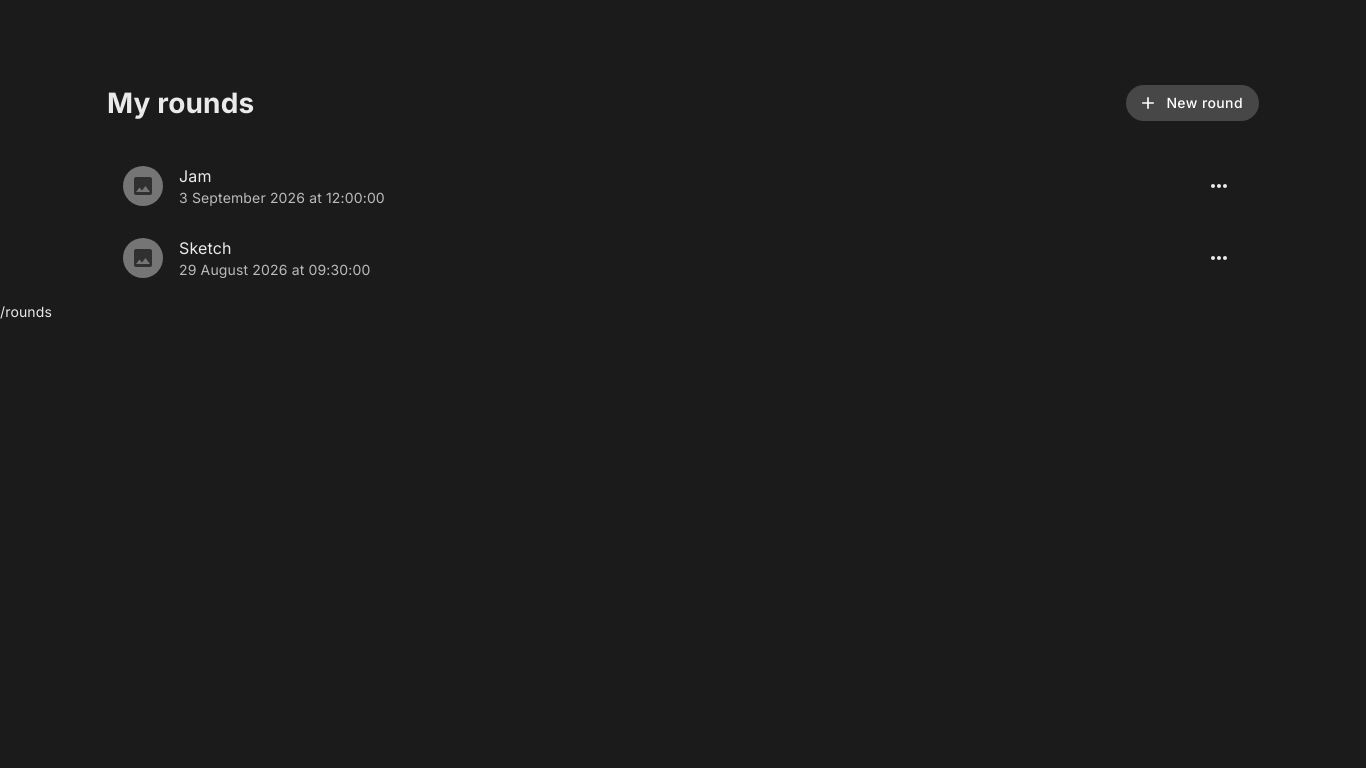
it: RoundsListRoute › duplicates the round whose menu it was, and puts the copy at the top of the list
The image size is (1366, 768).
Click the 1st button named "Round options".
click(1219, 186)  # box 1195,162 -> 1243,210
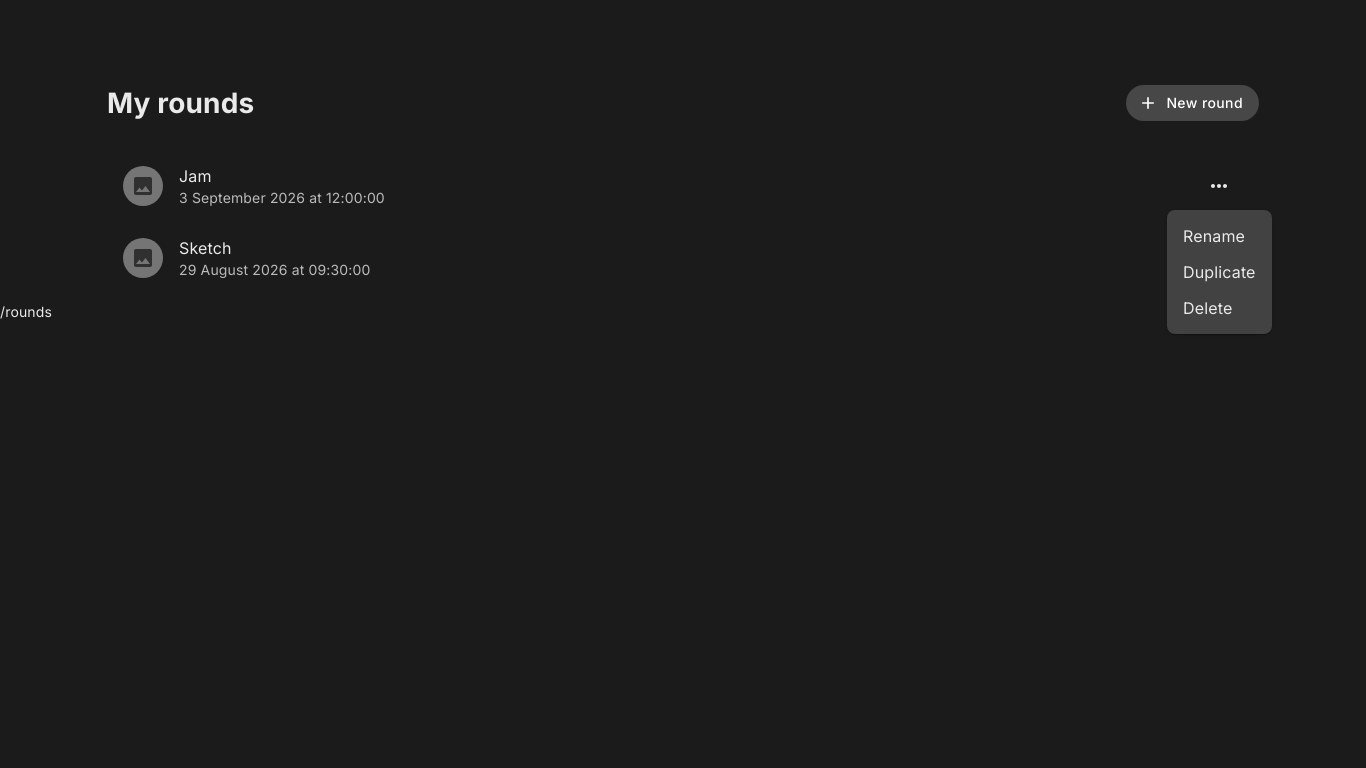
Result: the menu is shown at 1167,210 -> 1272,334
Click the menu item "Duplicate".
click(1219, 272)  # box 1167,254 -> 1272,290
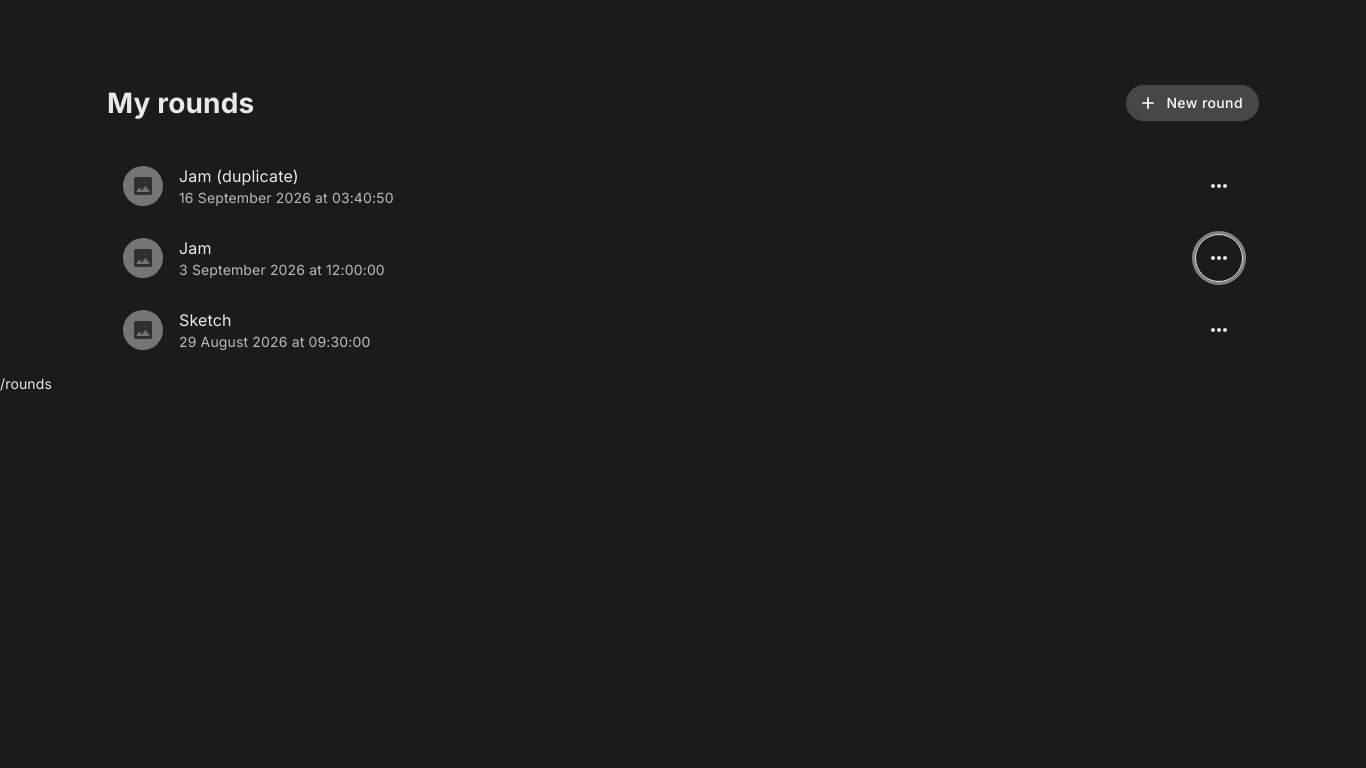
Expected: the text with test id "location" reads "/rounds", 0,375 -> 52,392
Result: the text "Jam (duplicate)" is shown at 179,166 -> 299,186
Result: the menu is gone
